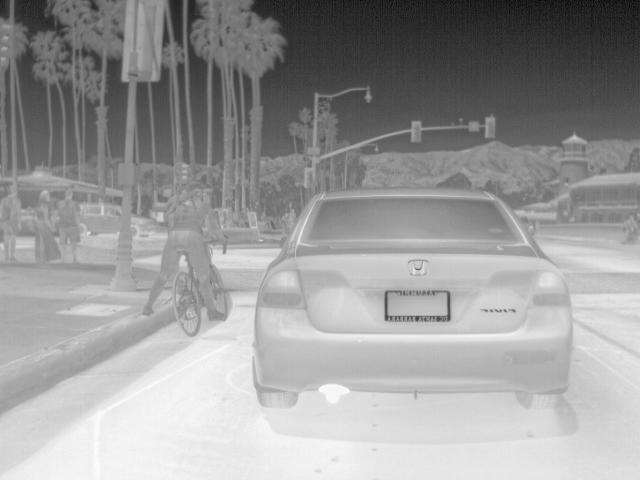car: (253, 185, 576, 411), (82, 200, 122, 234), (133, 212, 156, 239)
person: (142, 174, 218, 319), (33, 190, 63, 266), (56, 190, 83, 266), (2, 183, 24, 263), (284, 207, 299, 234), (626, 214, 640, 233)
